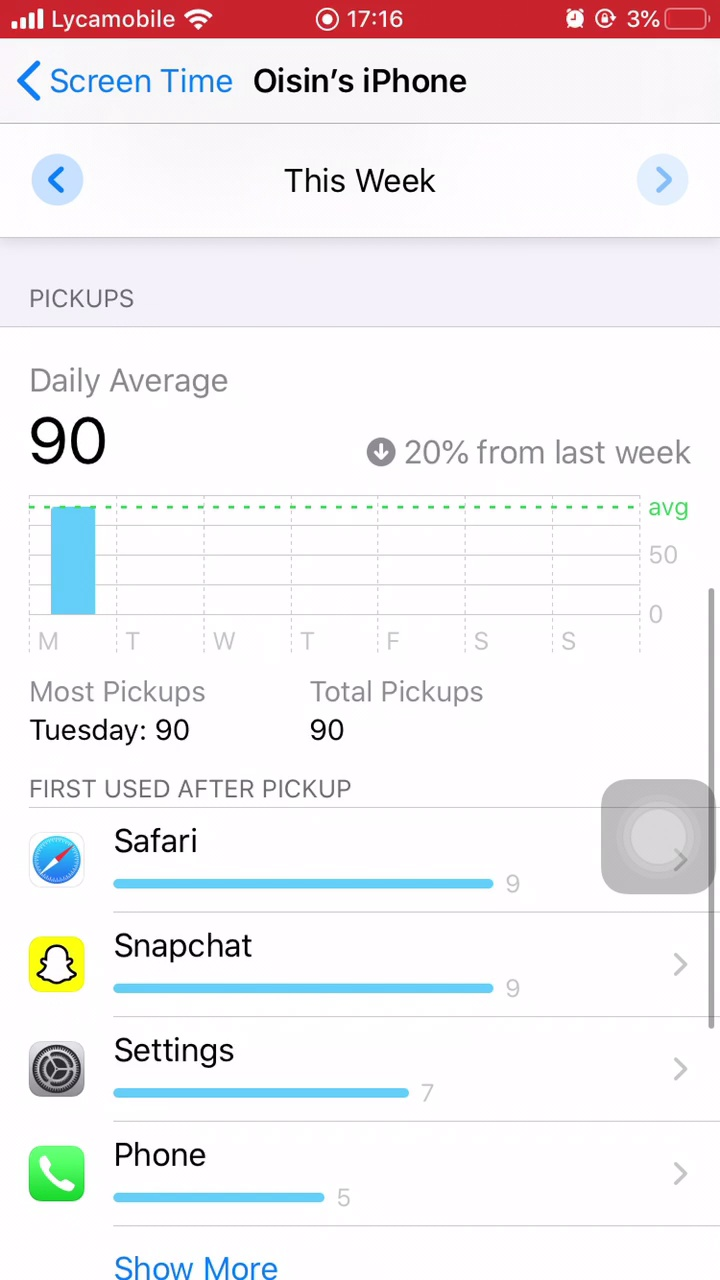pick_app: (21, 922, 554, 1002), (29, 816, 543, 894), (21, 1022, 457, 1107), (18, 1133, 401, 1219)
pick_over: (28, 671, 550, 761)
week: (264, 160, 454, 207)
